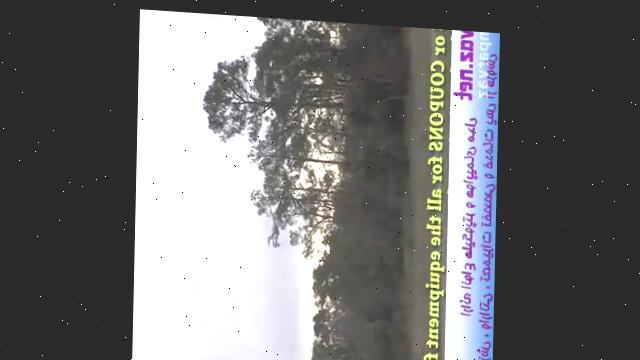drone: (264, 206, 285, 245)
